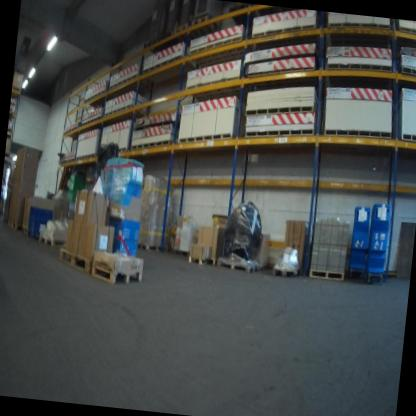pallet: (189, 30, 252, 78), (243, 120, 315, 156), (326, 12, 395, 49), (319, 120, 394, 153), (241, 57, 317, 88), (137, 48, 189, 90), (176, 124, 244, 156), (324, 57, 394, 88), (248, 16, 319, 45), (244, 97, 319, 123), (88, 262, 145, 291), (186, 11, 223, 45), (128, 132, 176, 157), (103, 100, 146, 125), (53, 245, 90, 274), (107, 69, 140, 101), (304, 263, 348, 286), (215, 257, 261, 277), (271, 263, 300, 284), (132, 239, 168, 255), (81, 84, 107, 105), (397, 122, 416, 148), (37, 232, 65, 249), (171, 20, 195, 39), (396, 21, 416, 43), (78, 112, 102, 130), (72, 150, 98, 166), (171, 247, 193, 262), (397, 64, 416, 81), (187, 253, 208, 268), (108, 143, 129, 158), (204, 254, 224, 269), (4, 217, 21, 231), (57, 155, 75, 168), (18, 223, 28, 237)
